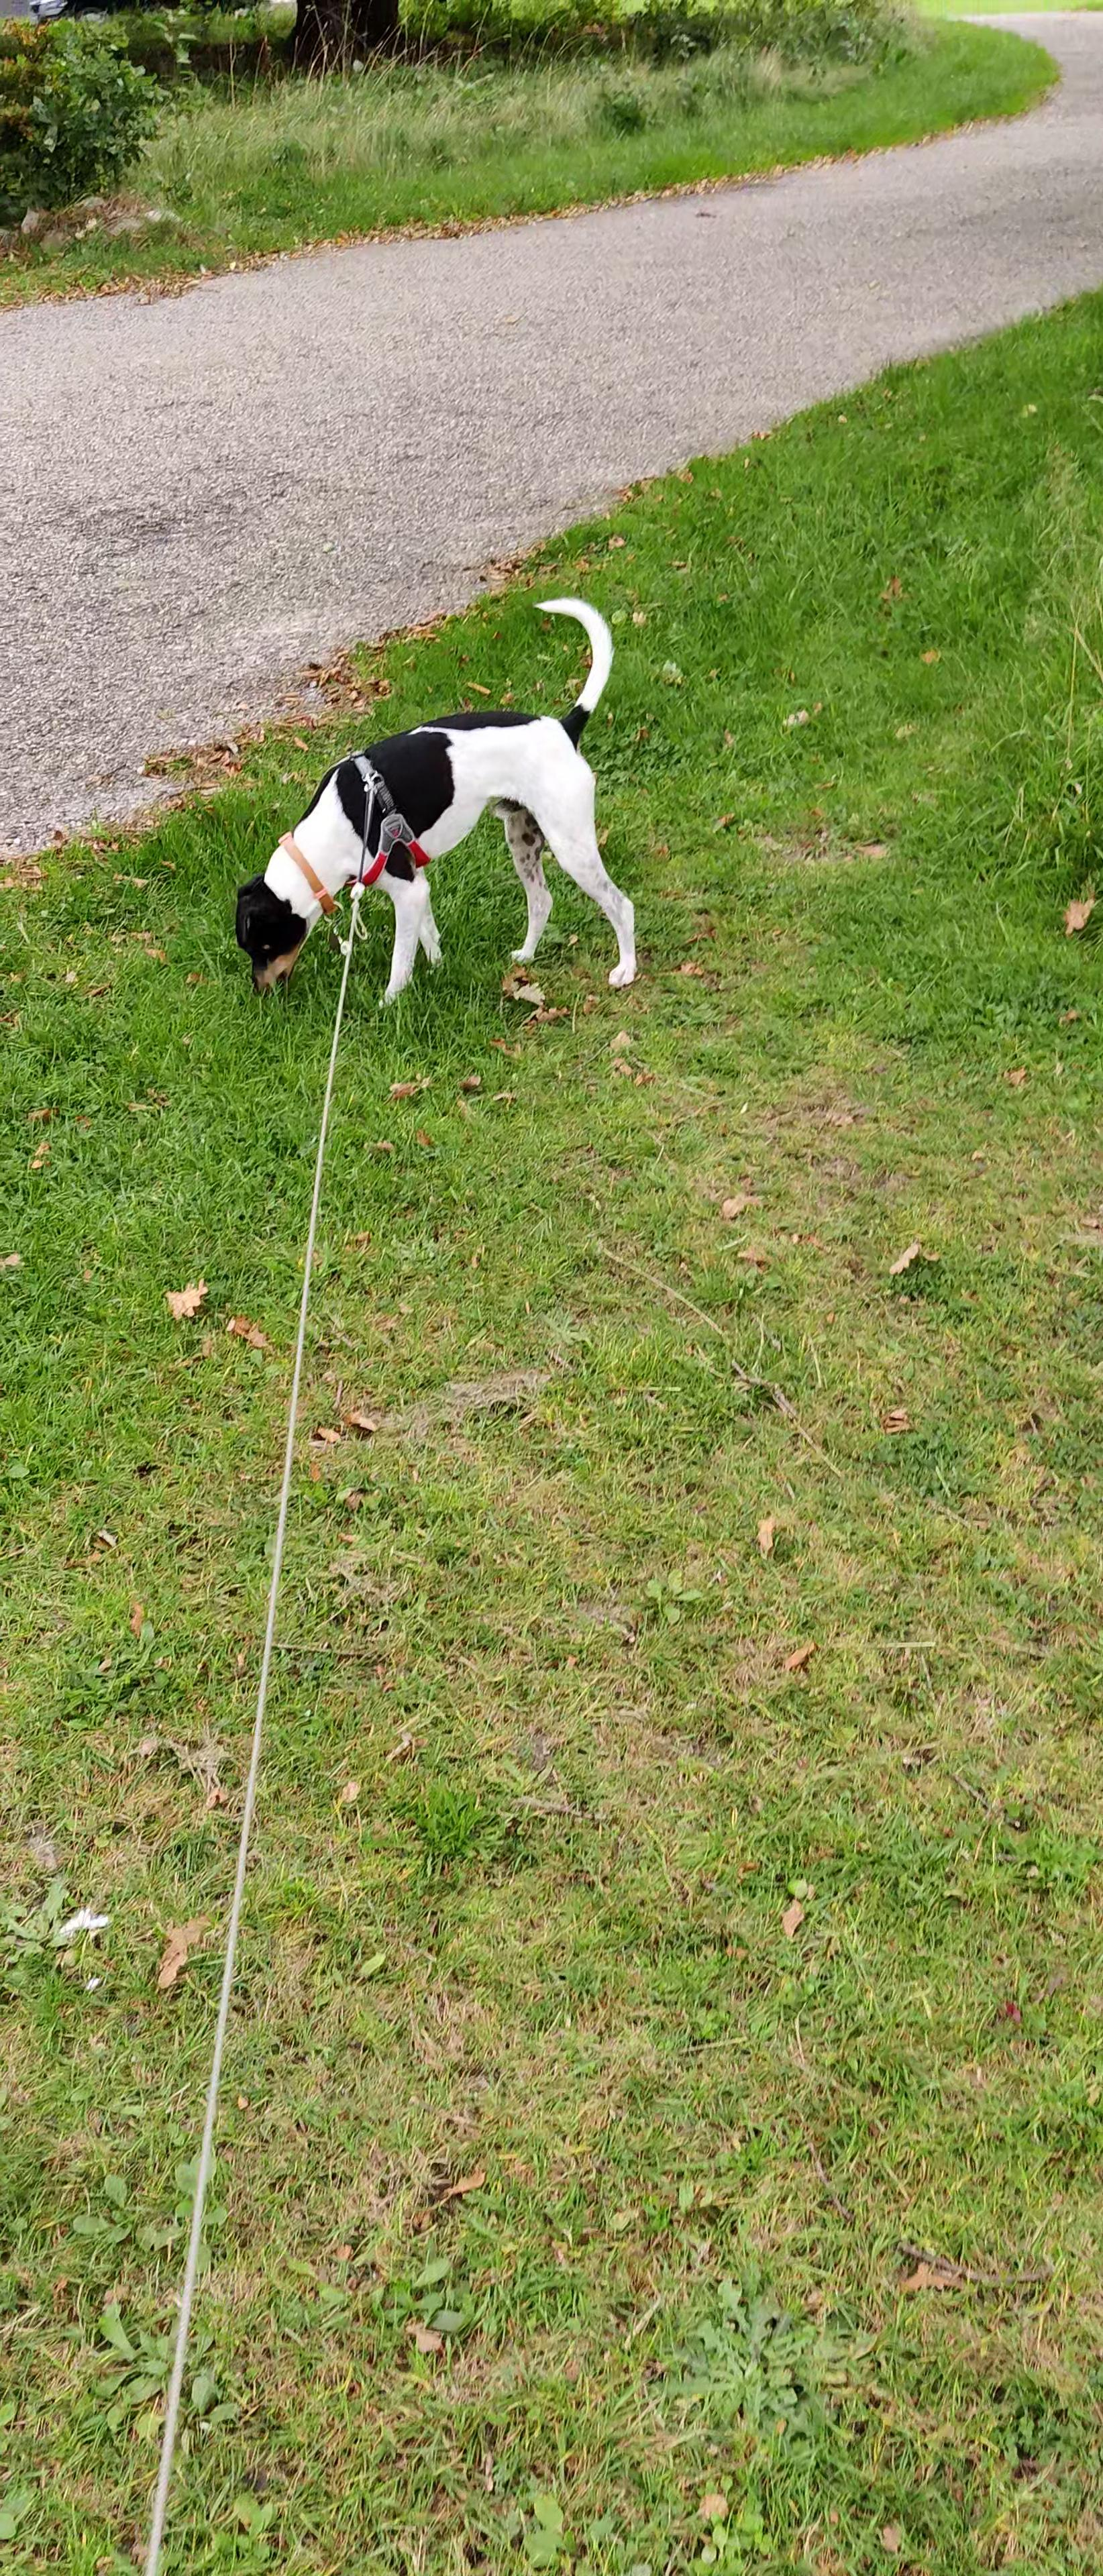Dog: (207, 588, 659, 1014)
